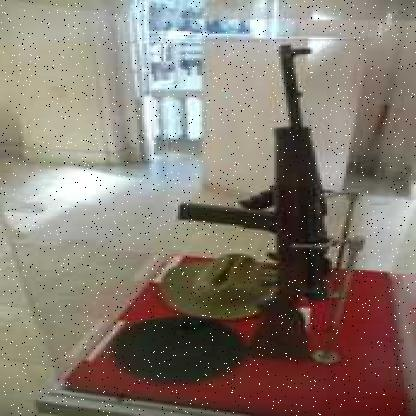rifle: (156, 25, 356, 376)
